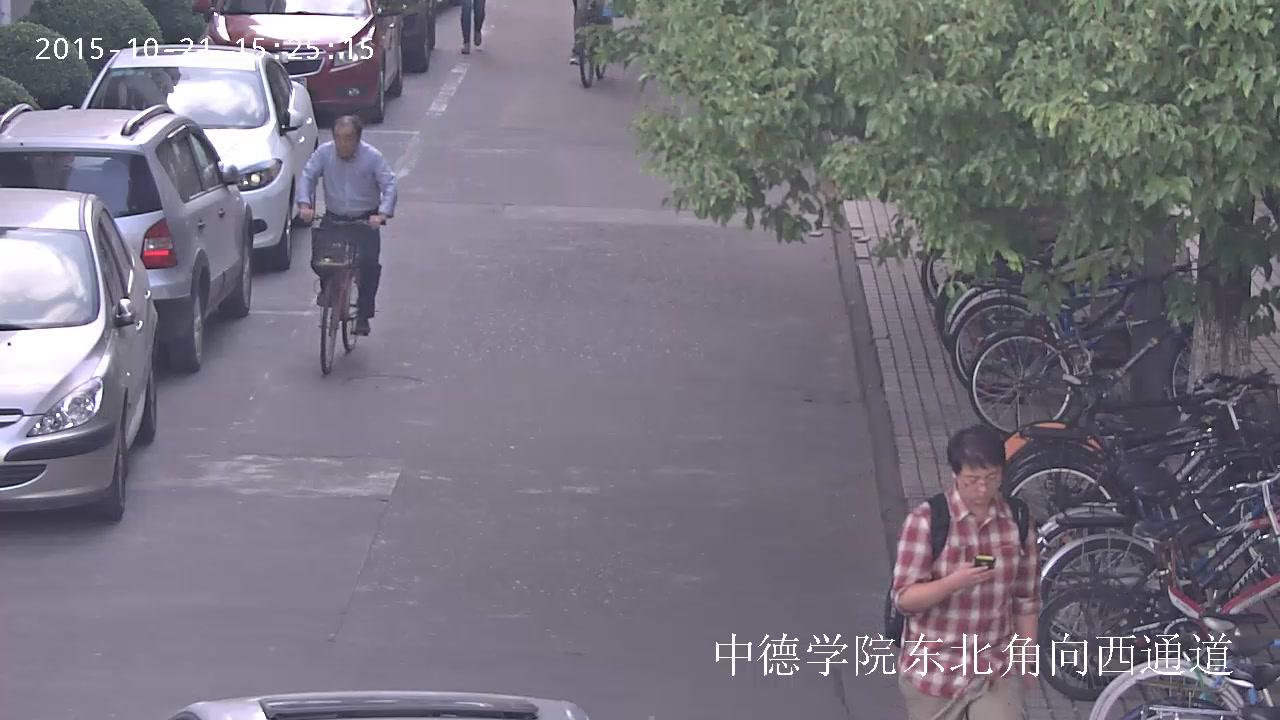face: (958, 462, 1000, 509), (334, 127, 356, 157)
